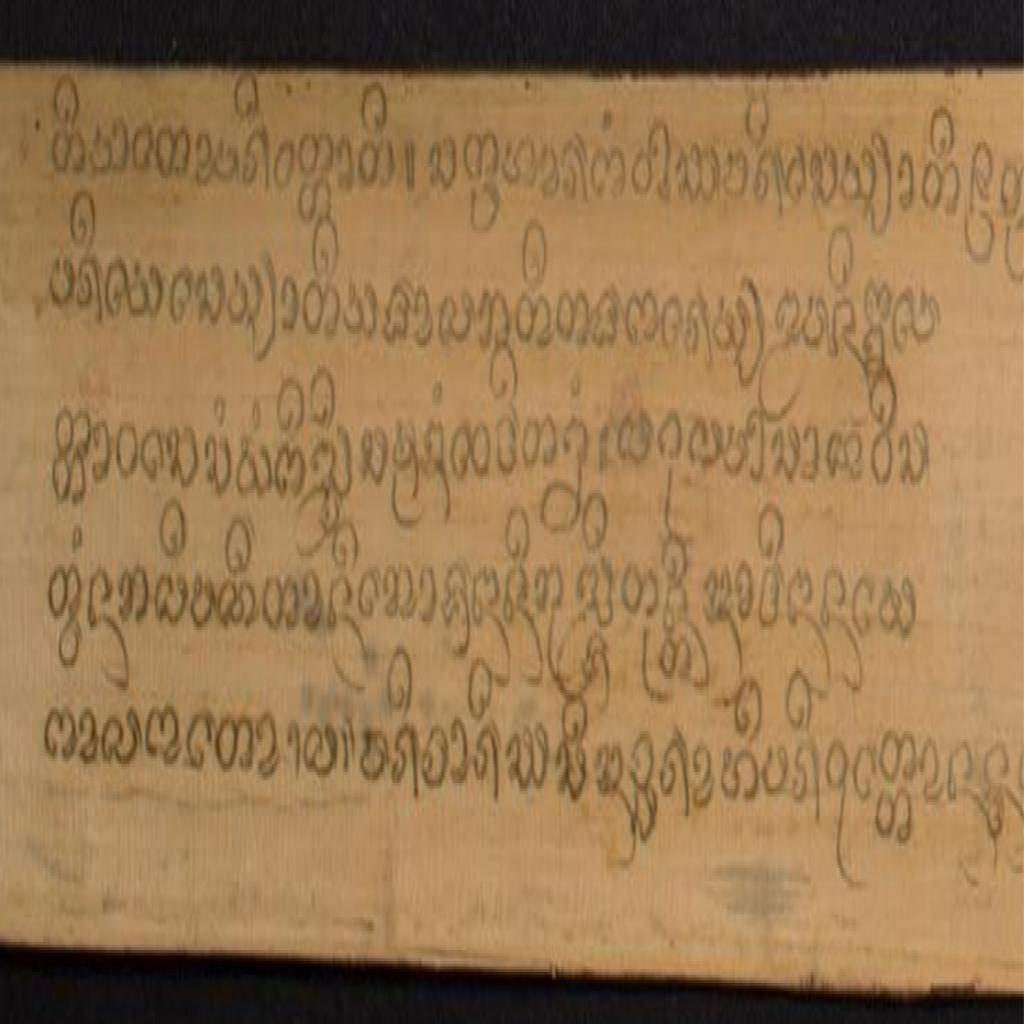LN028: (143, 695, 184, 773)
